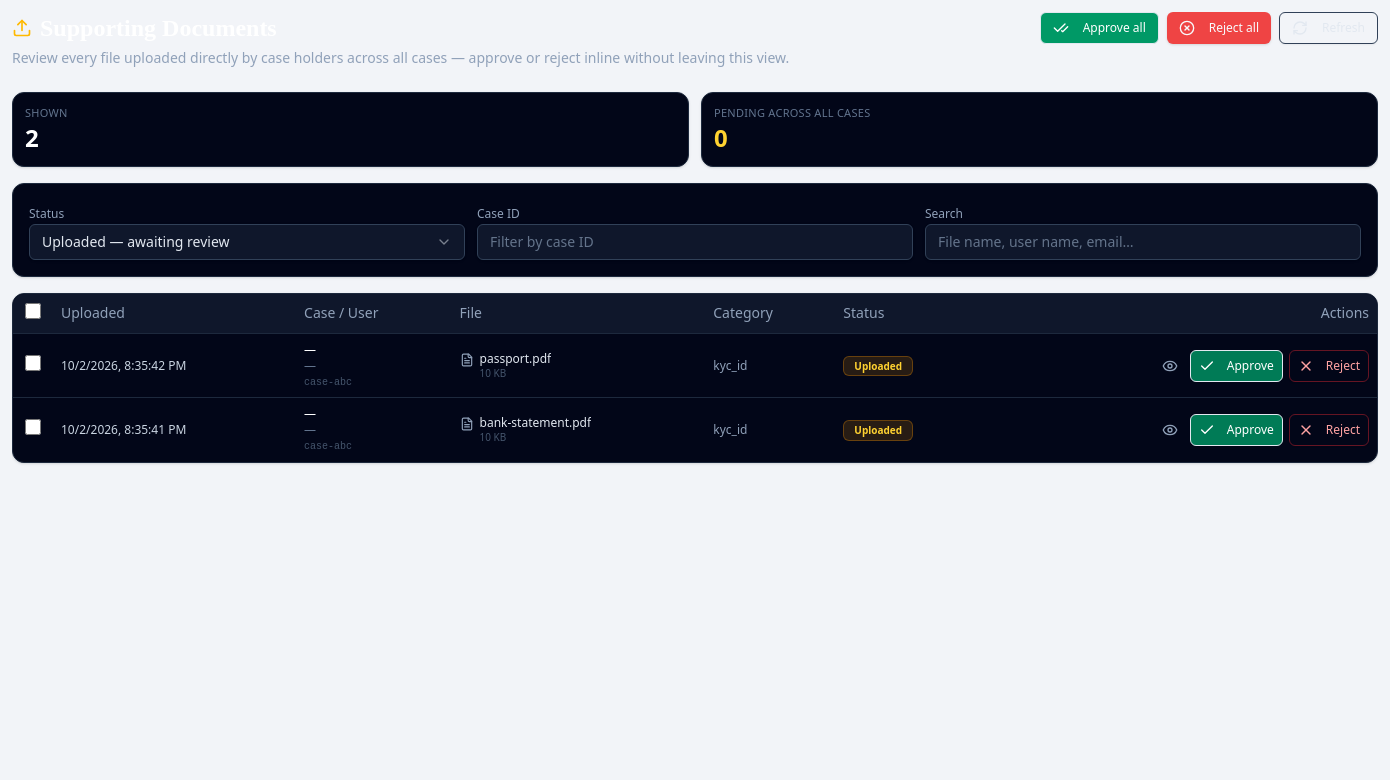
it: SupportingDocumentsTab — ghost selections pruned on server reload › toolbar disappears when the only selected doc is absent from the reload
The width and height of the screenshot is (1390, 780).
Expected: the row with test id "row-supporting-doc-11" is shown, left=13, top=398, right=1377, bottom=462
Step 1. Click the checkbox named "Select document bank-statement.pdf" → (33, 428), box left=25, top=420, right=41, bottom=436
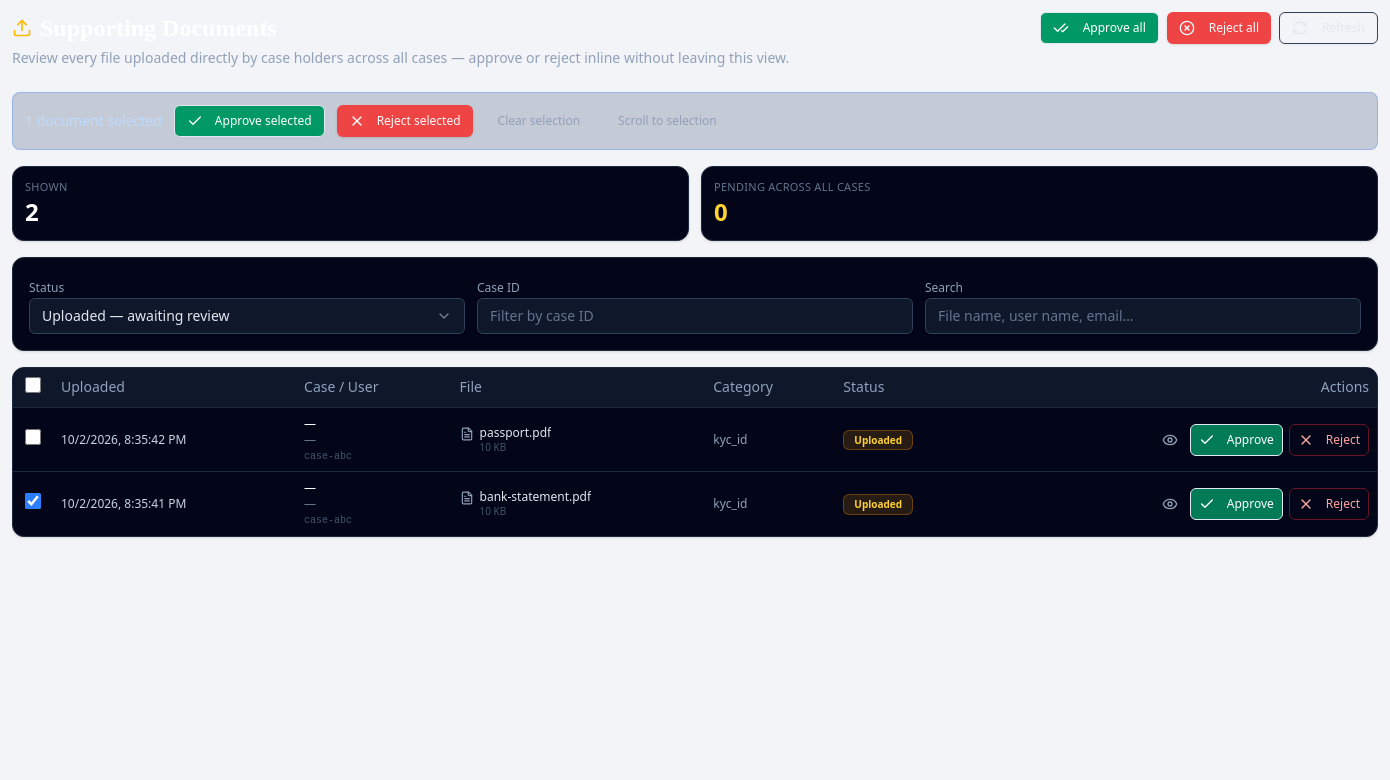
Expected: the element with test id "toolbar-selection-supporting-docs" is shown, left=12, top=92, right=1378, bottom=150
Step 2. Type "case-abc" into the field with test id "filter-supporting-docs-case-id" → (695, 316), box left=477, top=298, right=913, bottom=334
Wait 350 ms
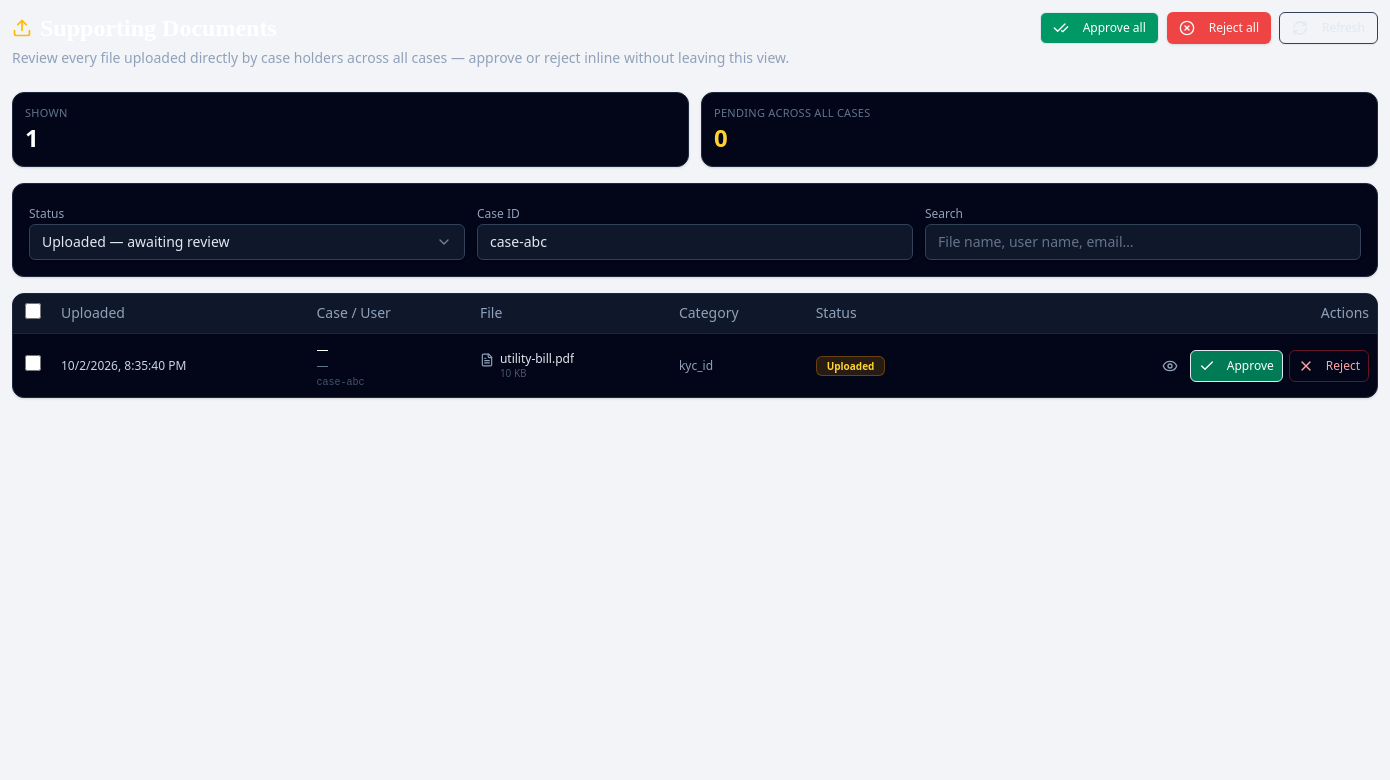
Expected: the element with test id "toolbar-selection-supporting-docs" is gone
